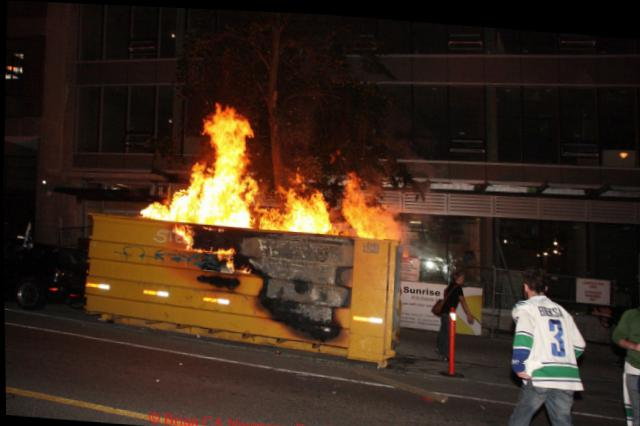fire: (141, 97, 395, 236)
